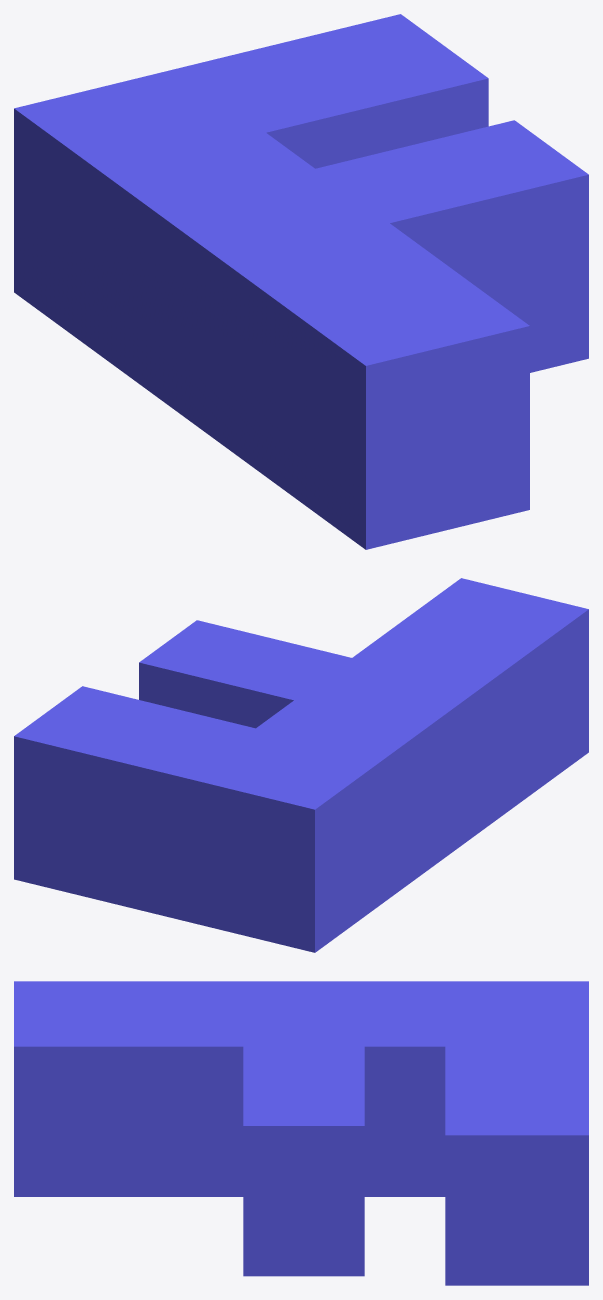
3 renders of one model, top to bottom at view 1: azimuth 30°, elevation 25°; view 2: azimuth 150°, elevation 25°; view 3: azimuth 270°, elevation 25°, orthographic. The views are drawn at different scales.
Parts seen in each view (by area): view 1: F1; view 2: F1; view 3: F1.
Boxes of the visible parts, bbox=[...] form: F1: bbox=[14, 14, 588, 549]; F1: bbox=[14, 578, 588, 952]; F1: bbox=[14, 981, 588, 1285].
Bounding box in the file's own units: 0.33 × 0.15 × 0.52.
